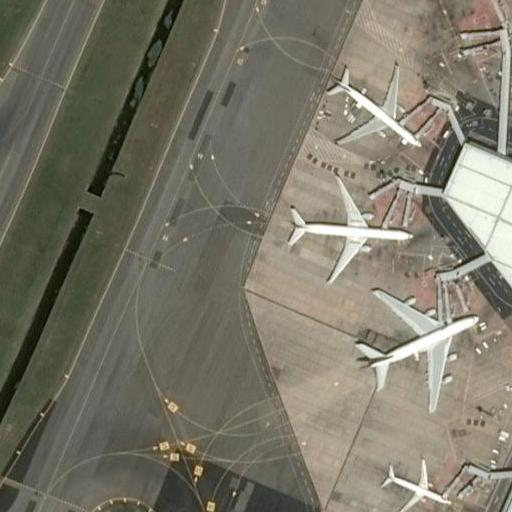Aircraft: (351, 289, 486, 412), (283, 172, 410, 279), (324, 59, 420, 152), (380, 455, 453, 512)
